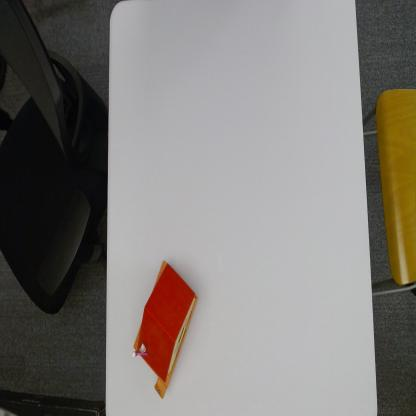House: (133, 254, 198, 403)
